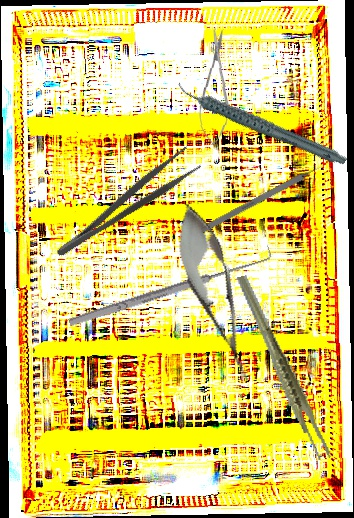Dressing Forceps: (45, 144, 204, 261)
Handpiece: (175, 48, 349, 197)
Hook Surgical: (64, 243, 275, 330), (194, 160, 329, 237)
Micro Scissor: (162, 195, 269, 392), (197, 27, 234, 147)
Tissue Forceps: (234, 265, 333, 470)
